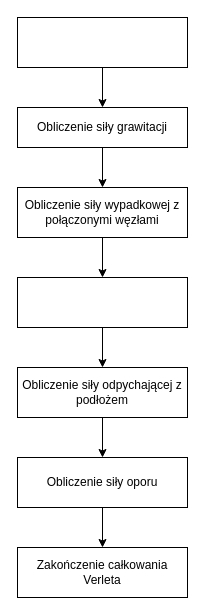
The diagram is 205 pixels wide and 615 high, and some of its shapes have lost their labels. Each missing label, with the box of its shape:
Obliczenie siły odpychającej z kolidującymi węzłami: (16, 276, 188, 328)
Rozpoczęcie całkowania Verleta: (16, 16, 188, 68)
